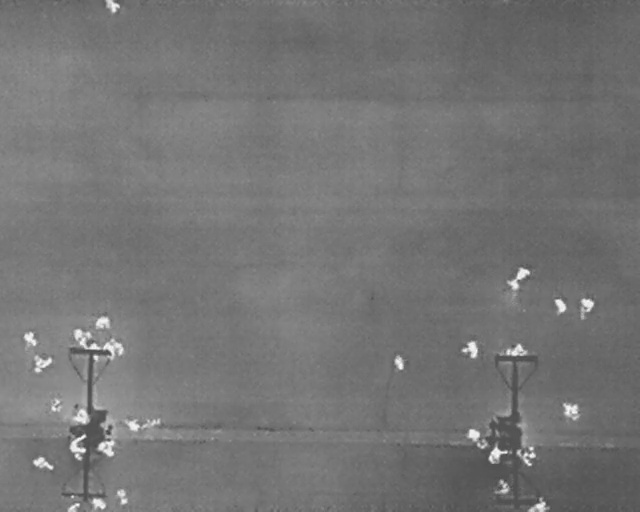Person: (503, 260, 535, 293), (29, 453, 57, 473), (103, 336, 124, 362), (69, 433, 87, 462), (71, 402, 91, 426), (515, 445, 537, 466), (72, 327, 91, 350), (551, 294, 570, 316), (525, 495, 551, 511), (505, 343, 528, 360), (488, 445, 509, 463), (32, 354, 52, 372), (121, 415, 141, 433), (96, 440, 116, 458), (563, 400, 580, 421), (580, 297, 595, 320), (391, 352, 407, 372), (21, 330, 37, 349), (462, 339, 478, 358), (116, 487, 131, 506), (95, 314, 111, 330), (495, 479, 510, 496), (90, 496, 108, 510), (88, 342, 101, 361), (467, 427, 482, 440), (106, 0, 118, 15), (51, 397, 61, 415), (68, 500, 81, 511)
